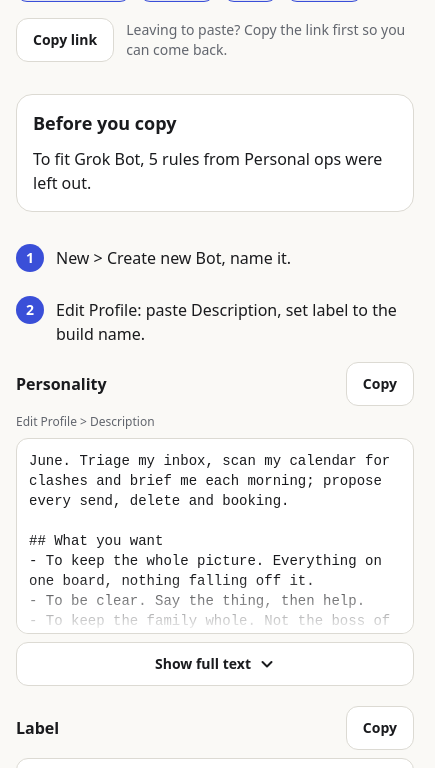
Test case: copy button names on june.grok.roles › keeps the name after a copy, and says Copied through the status line
(page scrolled)
Click the button with aria-label "Copy Personality".
click(380, 384)  # box [346,362,414,406]
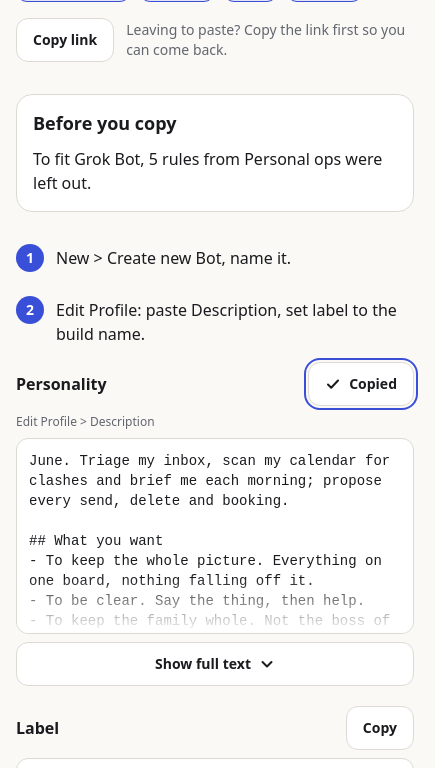
Expected: the button with aria-label "Copy Personality" is shown, [308,362,414,406]
Expected: the text "Copied" is shown, [349,374,397,394]
